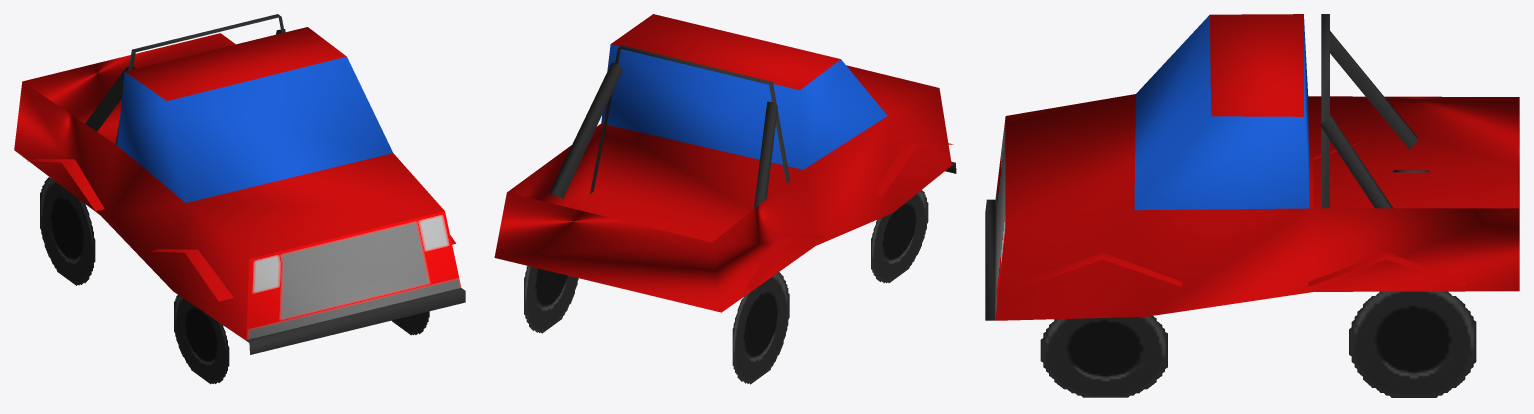
File: ORG_TRUCK_RED.obj
The picture shows the model from 3 angles, left to right: view 1: azimuth 30°, elevation 25°; view 2: azimuth 150°, elevation 25°; view 3: azimuth 270°, elevation 25°; orthographic projection. The views are drawn at different scales.
Visible parts, largest first — view 1: default; view 2: default; view 3: default.
Part boxes in pixels (box(x1,y1,x2,y2)): default: box(14, 14, 465, 384); default: box(494, 14, 956, 384); default: box(985, 14, 1519, 397).
Size of the model in its own units: 13.62 by 13.75 by 23.06.
1 material, 1 textured.
